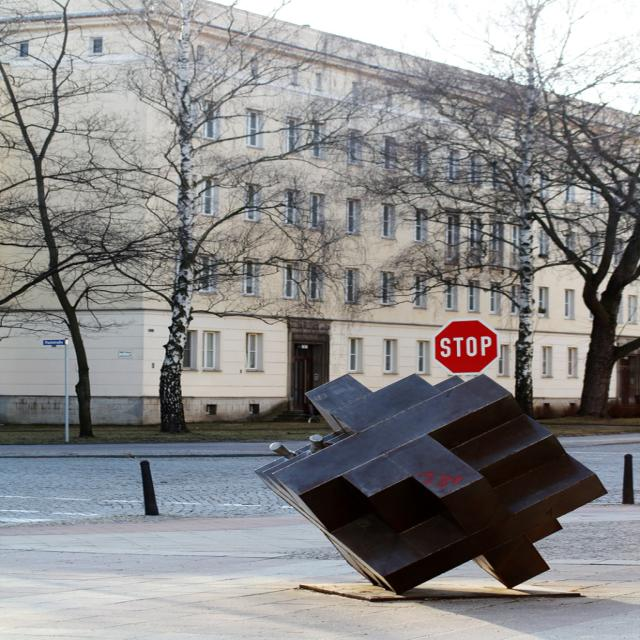Stop-sign: (432, 320, 502, 377)
